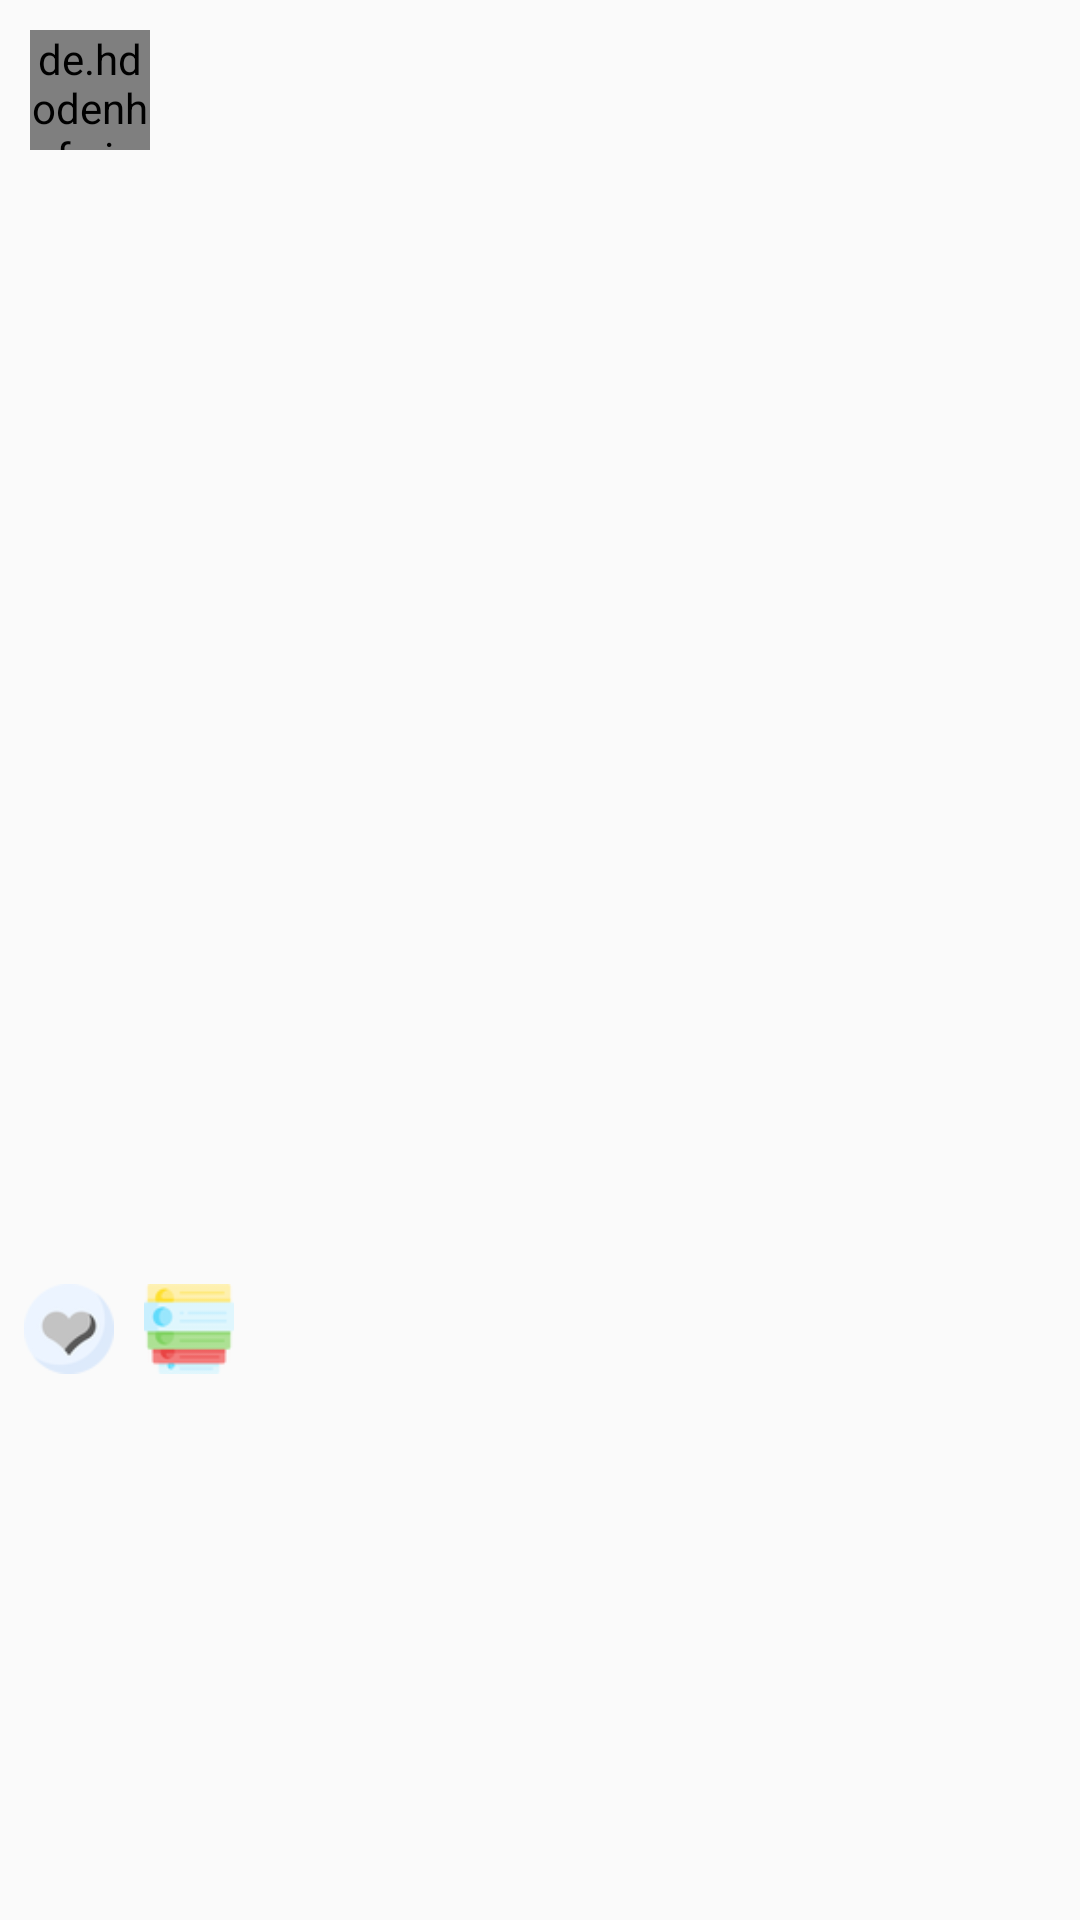

Icons on this 1080px×1920px Android screen, each with its box as (x1, y1, x2, y2):
like: (24, 1284, 114, 1374)
